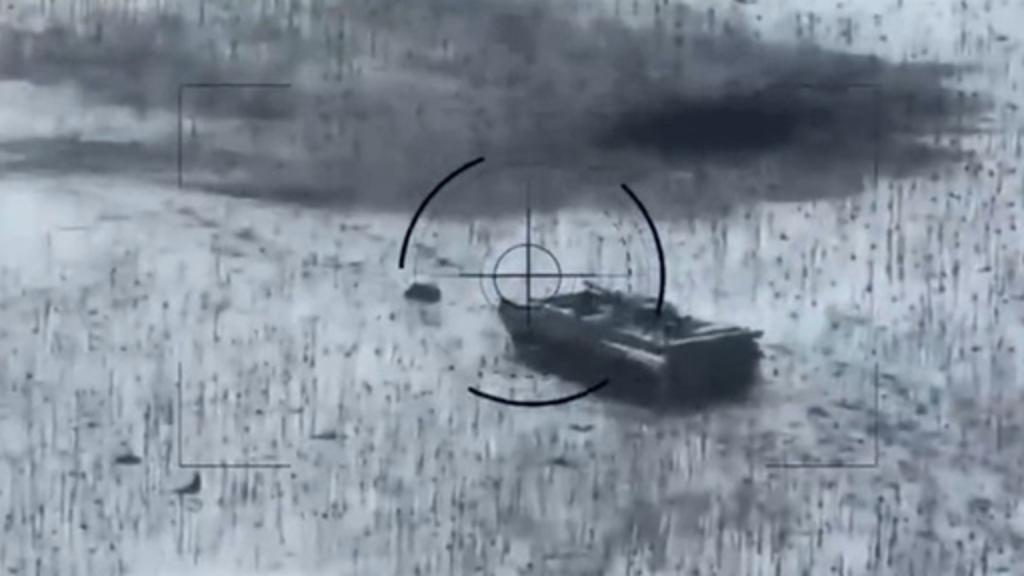APC-IFV: (494, 274, 778, 426)
